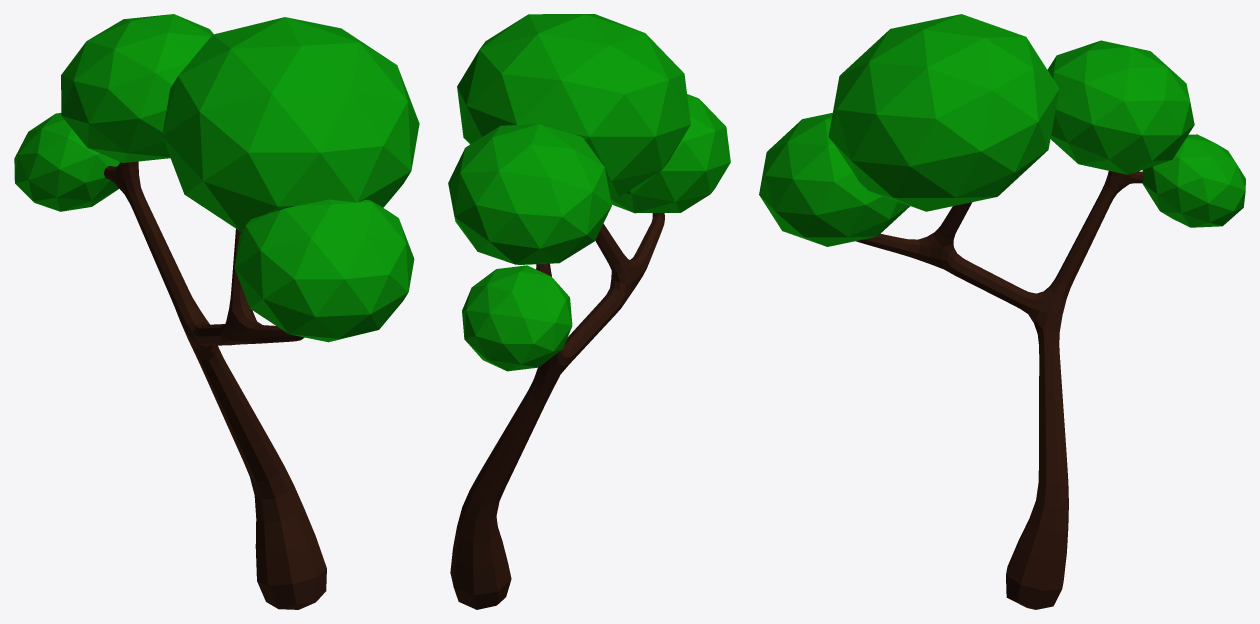
Rendered from tree.obj.
The picture shows the model from 3 angles, left to right: view 1: azimuth 30°, elevation 25°; view 2: azimuth 150°, elevation 25°; view 3: azimuth 270°, elevation 25°; orthographic projection. The views are drawn at different scales.
Parts seen in each view (by area): view 1: Icosphere.003, Icosphere, body, Icosphere.001, Icosphere.002; view 2: Icosphere.003, Icosphere.001, body, Icosphere.002, Icosphere; view 3: Icosphere.003, body, Icosphere.001, Icosphere, Icosphere.002.
Part boxes in pixels (bbox=[...]): Icosphere.003: bbox=[162, 17, 419, 231]; Icosphere: bbox=[234, 199, 414, 342]; body: bbox=[103, 161, 326, 609]; Icosphere.001: bbox=[61, 14, 213, 162]; Icosphere.002: bbox=[14, 113, 120, 211]; Icosphere.003: bbox=[457, 14, 690, 196]; Icosphere.001: bbox=[448, 124, 611, 264]; body: bbox=[450, 213, 664, 609]; Icosphere.002: bbox=[462, 265, 572, 371]; Icosphere: bbox=[610, 94, 730, 213]; Icosphere.003: bbox=[828, 14, 1059, 211]; body: bbox=[856, 171, 1143, 609]; Icosphere.001: bbox=[1047, 40, 1194, 174]; Icosphere: bbox=[759, 113, 909, 246]; Icosphere.002: bbox=[1142, 134, 1245, 227].
Bounding box in the file's own units: 0.6806 × 1.68 × 1.34.
